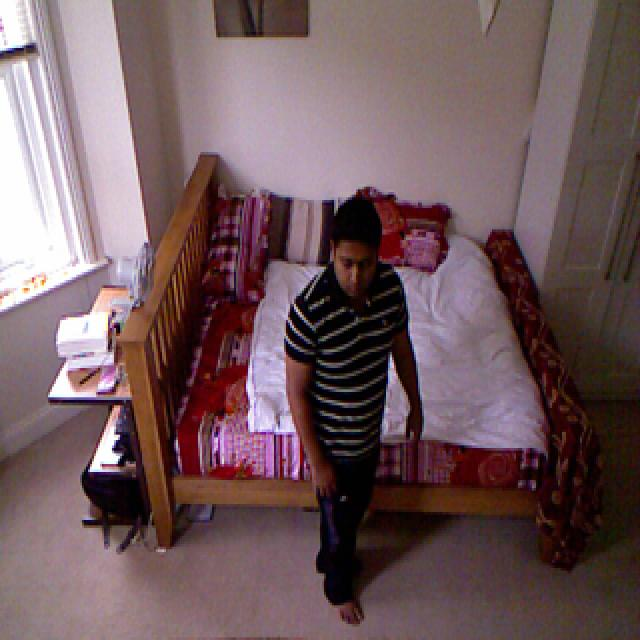standing: (304, 196, 406, 623)
